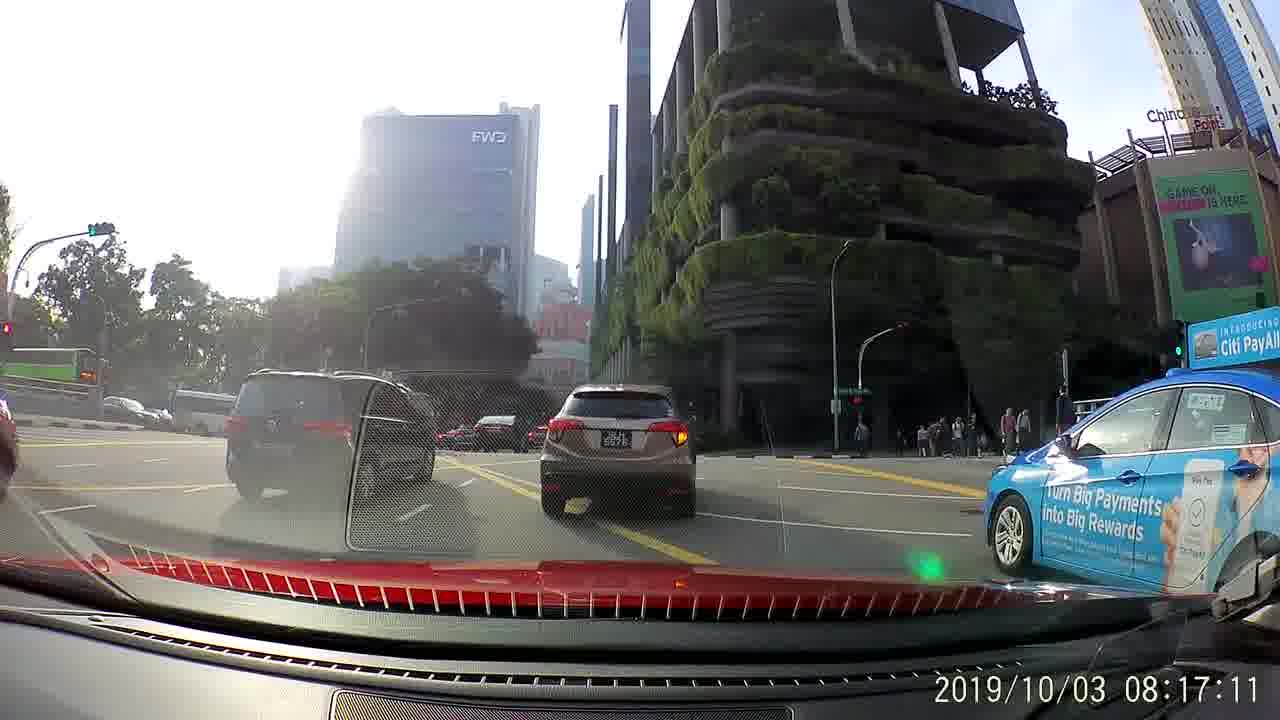bus: (3, 342, 104, 393)
car: (991, 309, 1276, 586), (224, 364, 433, 508), (547, 377, 701, 522), (471, 409, 530, 455), (100, 394, 161, 433)
